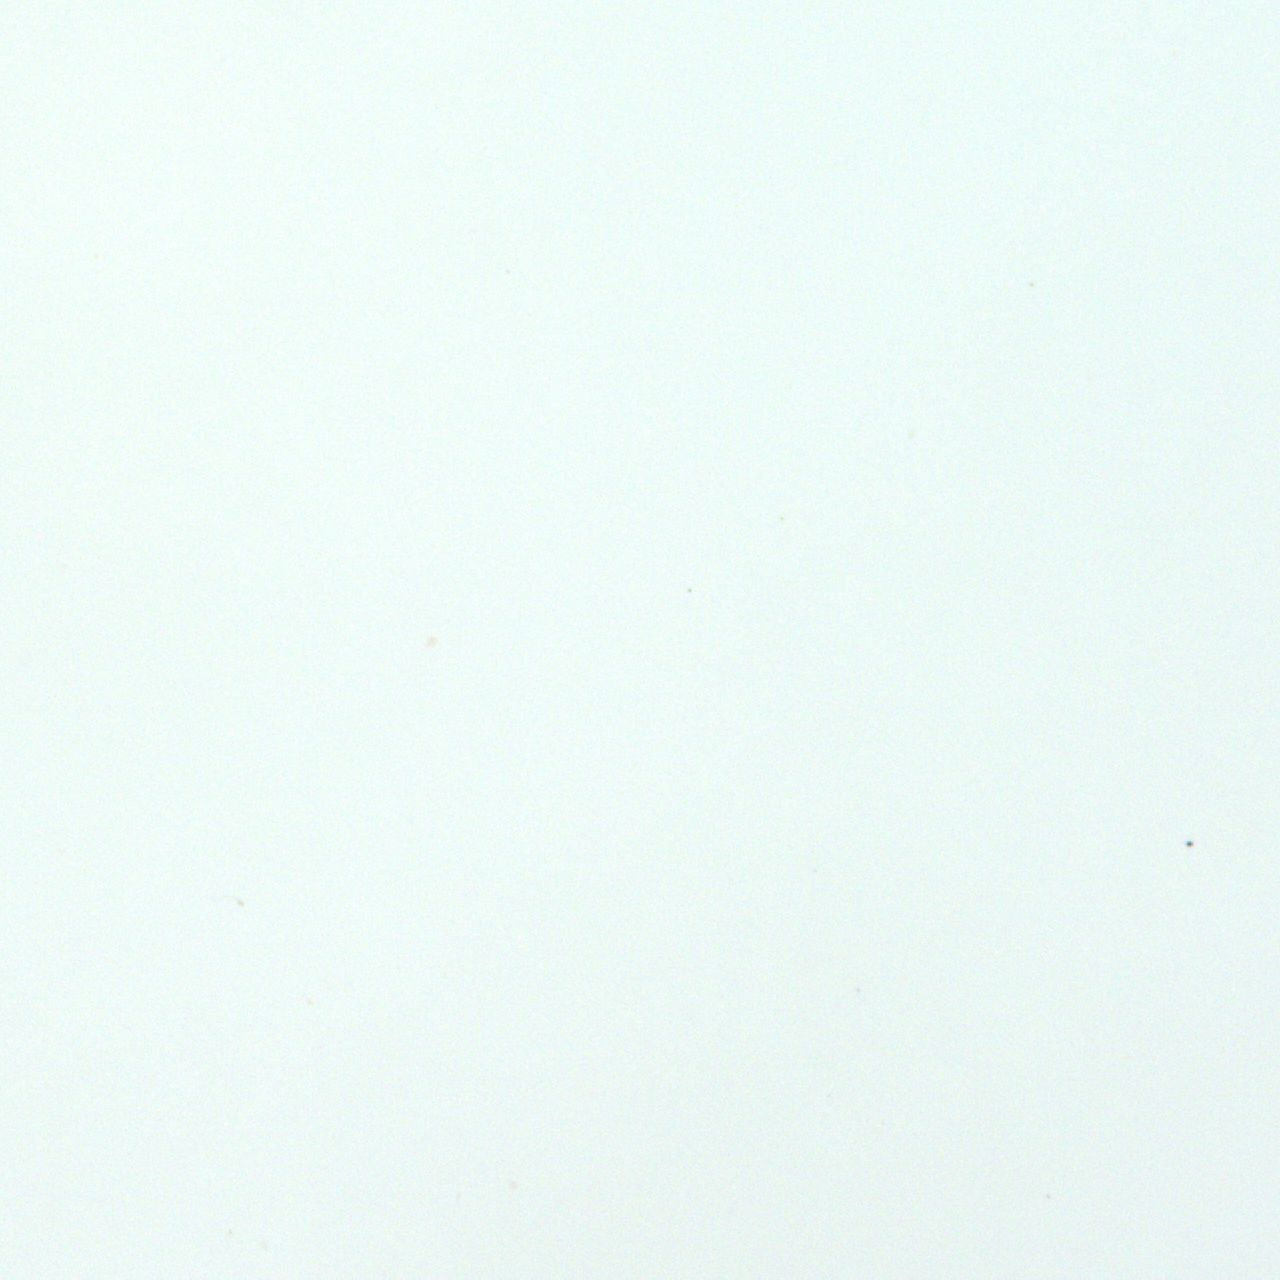dust: (1186, 840, 1193, 846)
